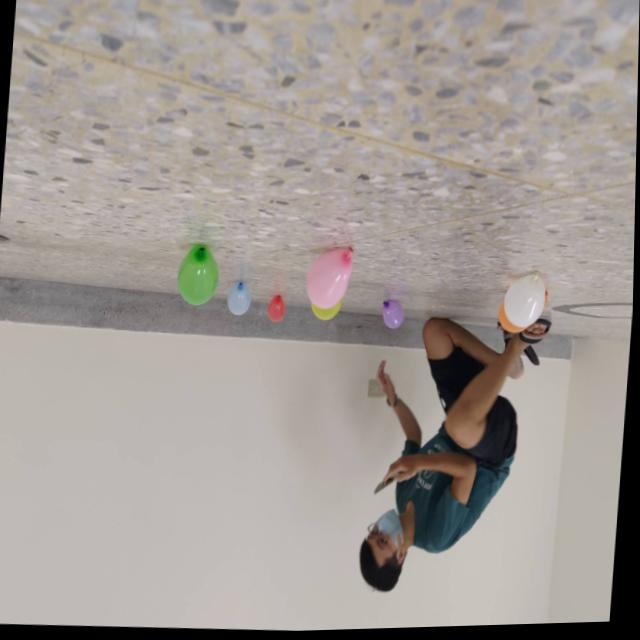other: (304, 247, 358, 313), (177, 245, 223, 309), (504, 273, 549, 334), (228, 281, 254, 317), (499, 305, 528, 337), (381, 301, 408, 334), (311, 299, 344, 324)
red: (267, 297, 289, 325)
